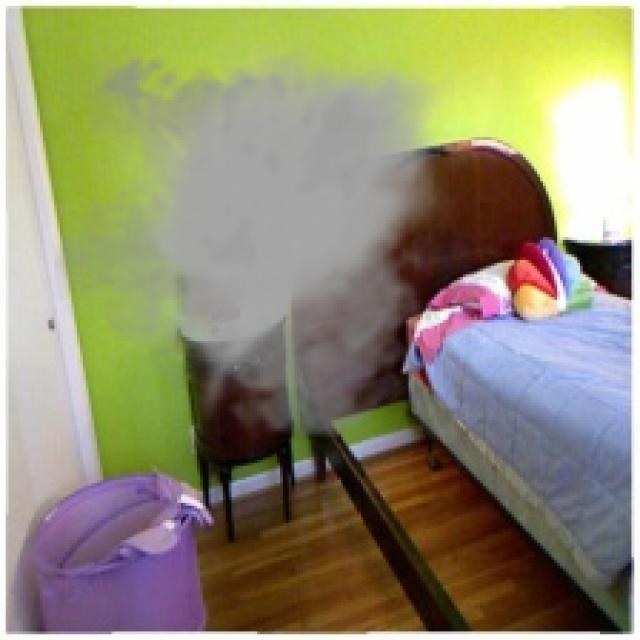smoke: (54, 43, 454, 443)
